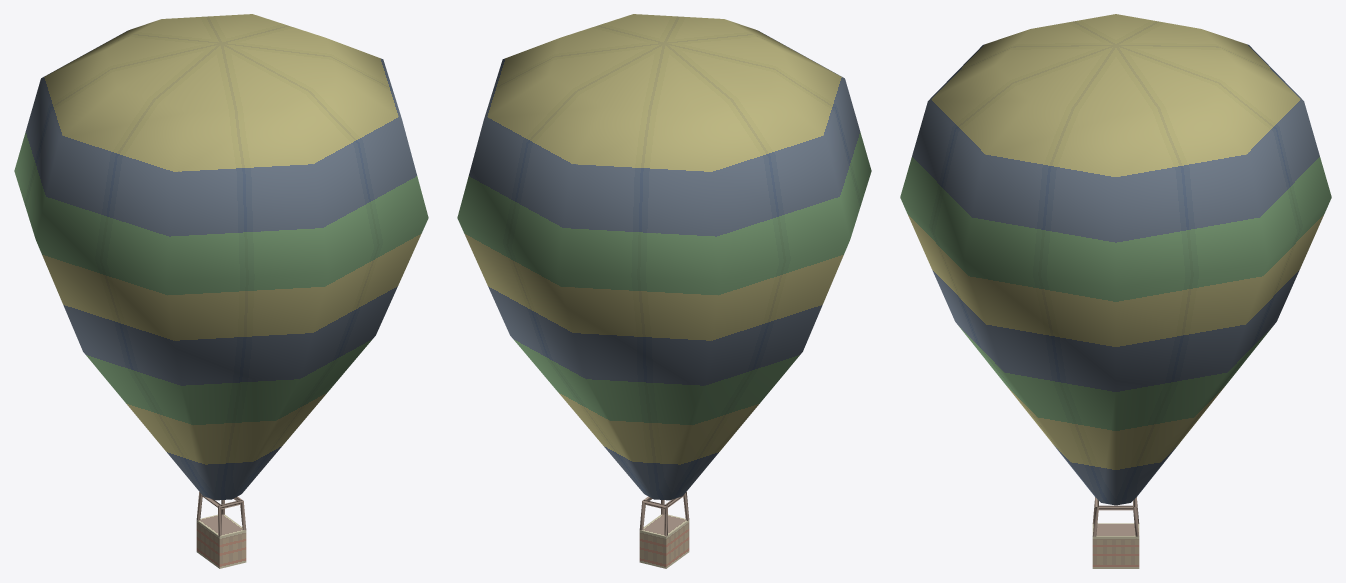
The model's file is 0378_Hot_Air_Balloon.glb.
3 views of the same model, side by side, from view 1: azimuth 30°, elevation 25°; view 2: azimuth 150°, elevation 25°; view 3: azimuth 270°, elevation 25° (orthographic).
Visible parts, largest first — view 1: part_0; view 2: part_0; view 3: part_0.
Boxes of the visible parts, x1,y1,x2,y2 form: part_0: (14, 14, 428, 568); part_0: (457, 14, 871, 568); part_0: (900, 14, 1331, 568).
Bounding box in the file's own units: 13.88 × 18.35 × 13.88.
1 material, 1 textured.
